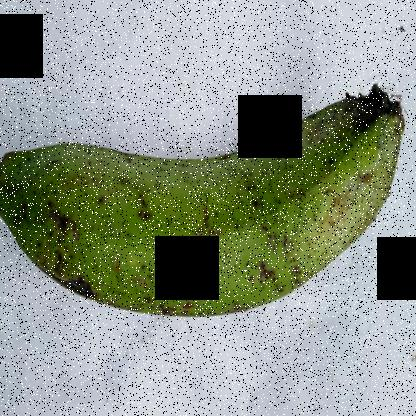unripe: (0, 70, 415, 338)
